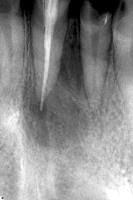Furcation Involvement: (21, 73, 92, 153)
